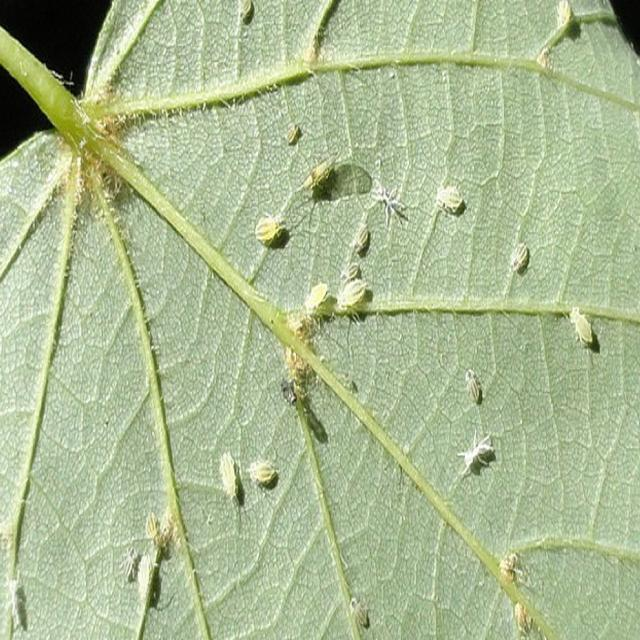Aphid-Grown-: (244, 195, 297, 262), (237, 440, 286, 510), (502, 216, 540, 284), (212, 430, 240, 518), (431, 180, 476, 232), (459, 353, 496, 411), (564, 297, 602, 352), (329, 281, 374, 324), (302, 270, 334, 316), (346, 218, 373, 256), (286, 120, 302, 154)
